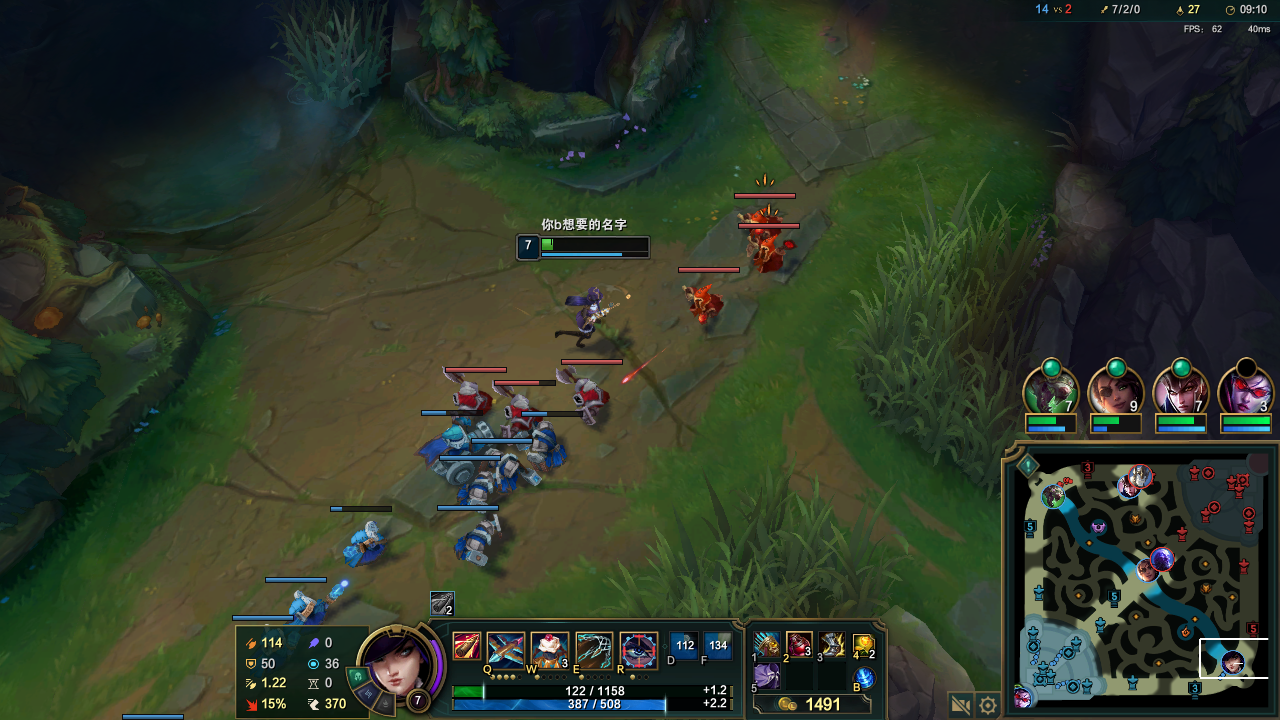DFXB: (455, 380, 498, 425), (573, 378, 614, 417), (752, 240, 794, 268), (501, 394, 536, 426), (689, 286, 718, 316), (745, 206, 776, 233)
WFXB: (427, 428, 490, 478), (525, 418, 569, 470), (340, 515, 384, 563), (452, 520, 497, 561), (486, 447, 528, 487), (284, 592, 328, 619), (458, 471, 491, 504)
